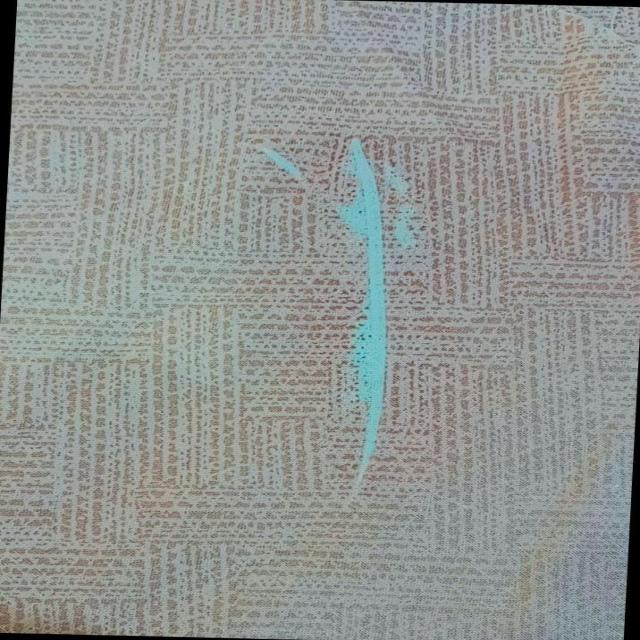selvet: (243, 118, 431, 504)
